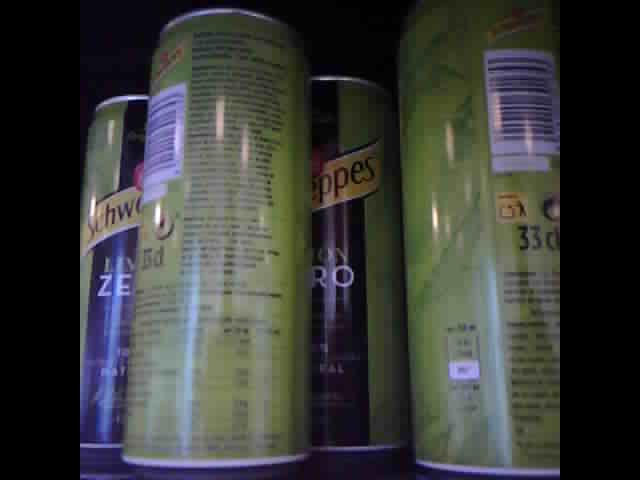schweppes: (120, 6, 310, 473), (410, 1, 560, 475), (310, 62, 404, 462), (80, 68, 149, 451)
